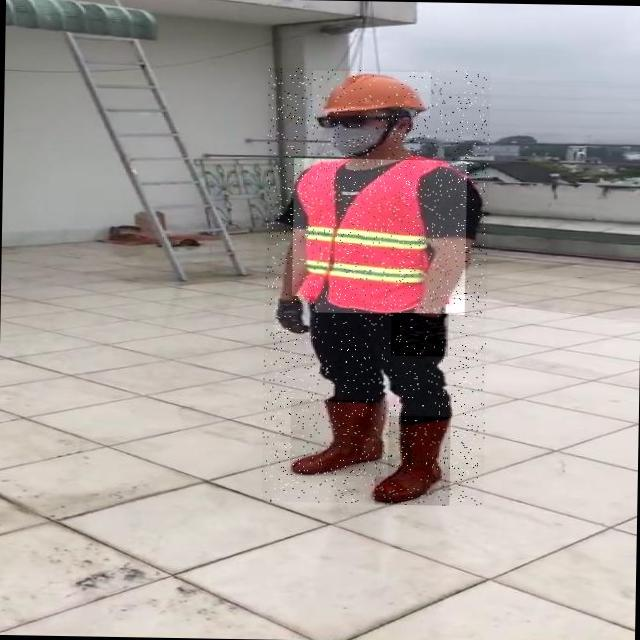Gloves: (391, 312, 449, 356), (274, 295, 315, 334)
Helmet: (312, 70, 431, 116)
Human: (261, 68, 491, 506)
Safety Boot: (290, 399, 389, 477), (374, 415, 451, 505)
Safety Vest: (292, 158, 469, 315)
